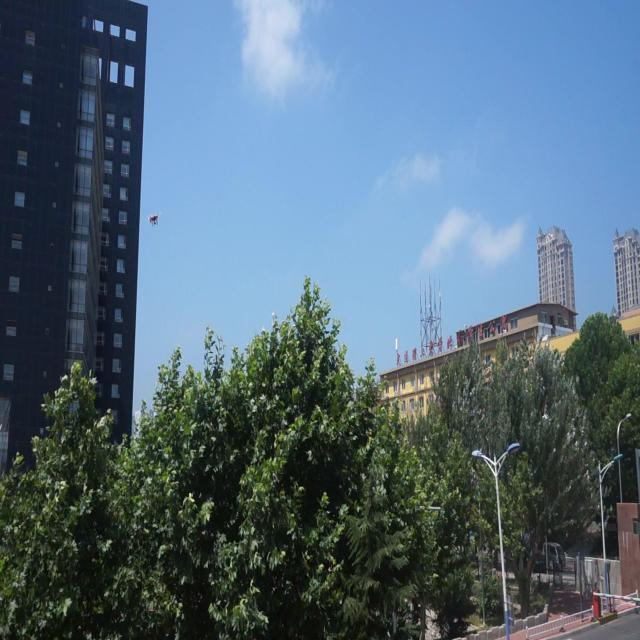drone: (146, 209, 160, 228)
